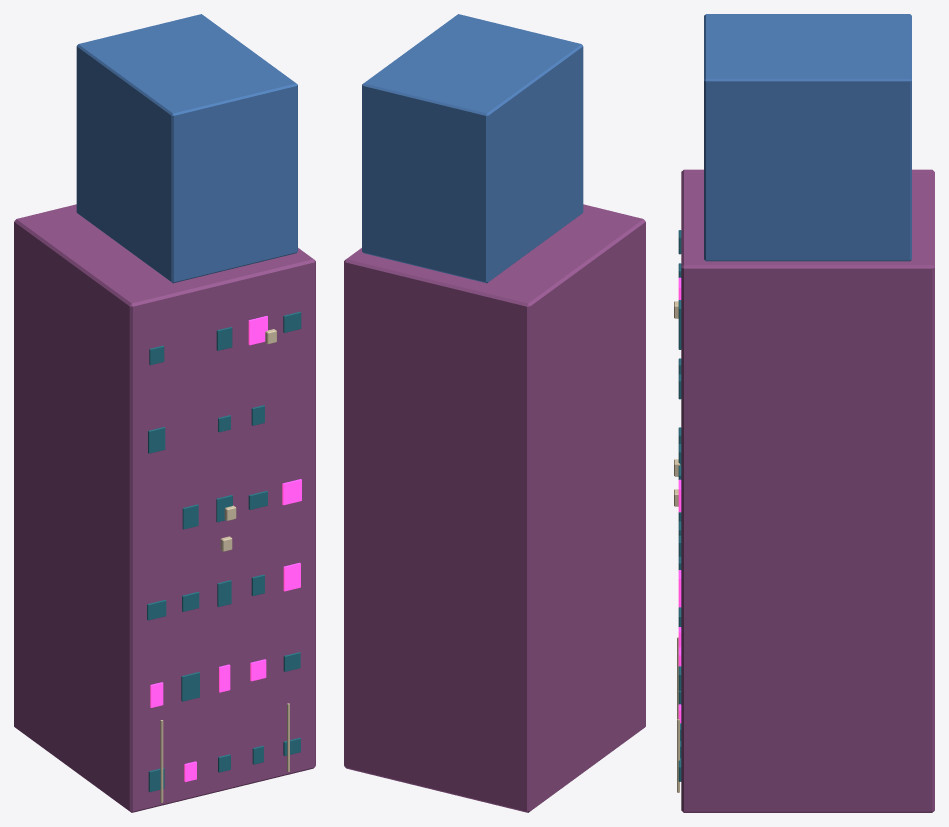
File: building_024_seed11.glb
3 renders of one model, left to right at view 1: azimuth 30°, elevation 25°; view 2: azimuth 150°, elevation 25°; view 3: azimuth 270°, elevation 25°, orthographic. The views are drawn at different scales.
Parts seen in each view (by area): view 1: building_024_seed11; view 2: building_024_seed11; view 3: building_024_seed11.
Part boxes in pixels (left/top/right/bottom): building_024_seed11: left=14, top=14, right=315, bottom=812; building_024_seed11: left=344, top=14, right=645, bottom=812; building_024_seed11: left=674, top=14, right=934, bottom=812.
Bounding box in the file's own units: 6.8 × 23.7 × 7.67.
